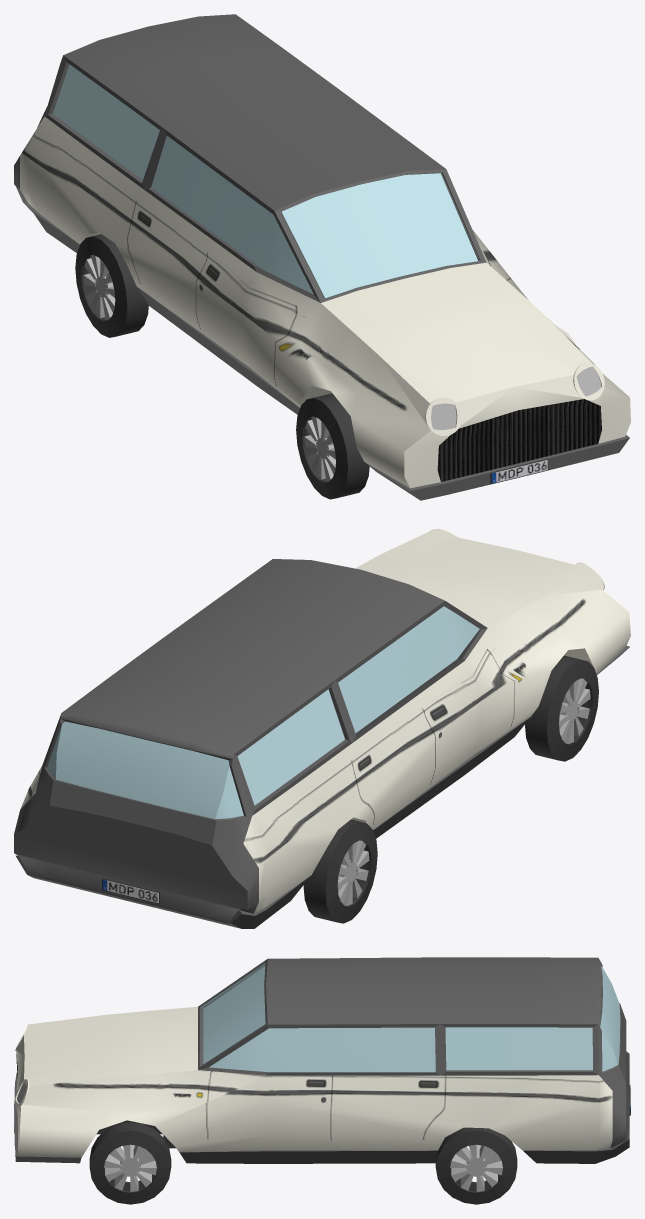
Rendered from volvo.fbx.
3 views of the same model, one above another, from view 1: azimuth 30°, elevation 25°; view 2: azimuth 150°, elevation 25°; view 3: azimuth 270°, elevation 25° (orthographic). The views are drawn at different scales.
Visible parts, largest first — view 1: Bil, Däck2, Däck3, Reg1; view 2: Bil, Däck2, Däck3, Reg2; view 3: Bil, Däck1, Däck4.
Part boxes in pixels (x1=…): Bil: x1=14, y1=14, x2=630, y2=500; Däck2: x1=296, y1=393, x2=369, y2=499; Däck3: x1=75, y1=234, x2=148, y2=337; Reg1: x1=490, y1=459, x2=548, y2=484; Bil: x1=14, y1=529, x2=630, y2=928; Däck2: x1=525, y1=655, x2=598, y2=761; Däck3: x1=303, y1=819, x2=377, y2=923; Reg2: x1=102, y1=878, x2=160, y2=903; Bil: x1=14, y1=957, x2=629, y2=1163; Däck1: x1=89, y1=1122, x2=171, y2=1204; Däck4: x1=435, y1=1127, x2=517, y2=1204.
Bounding box in the file's own units: 6.07 × 5.01 × 16.19.
